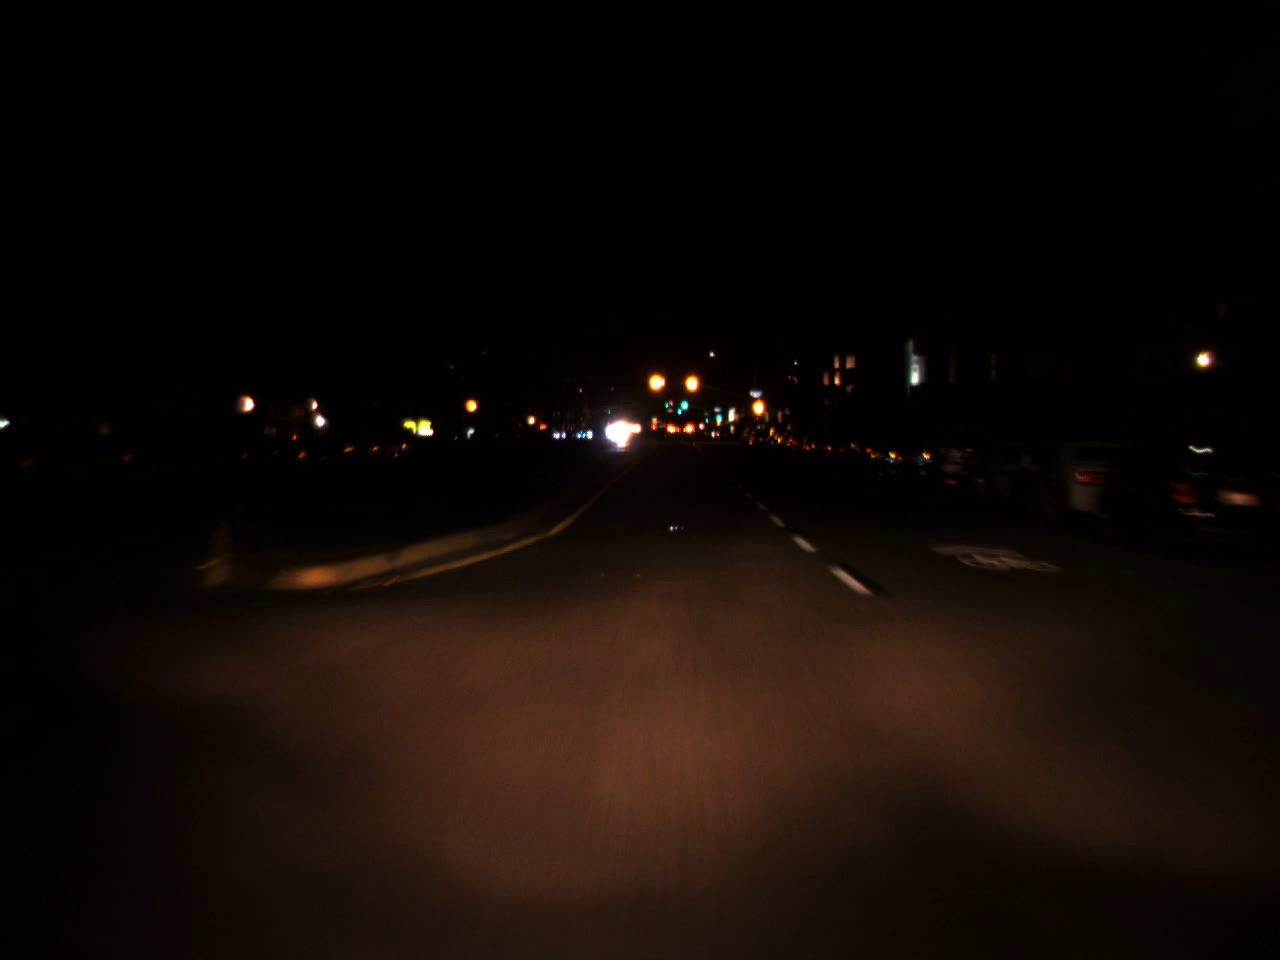go: (710, 405, 724, 423), (679, 391, 689, 412), (662, 394, 669, 409), (675, 402, 682, 414)
warning: (645, 362, 669, 402), (681, 363, 702, 403), (748, 387, 767, 427), (463, 392, 478, 417)
